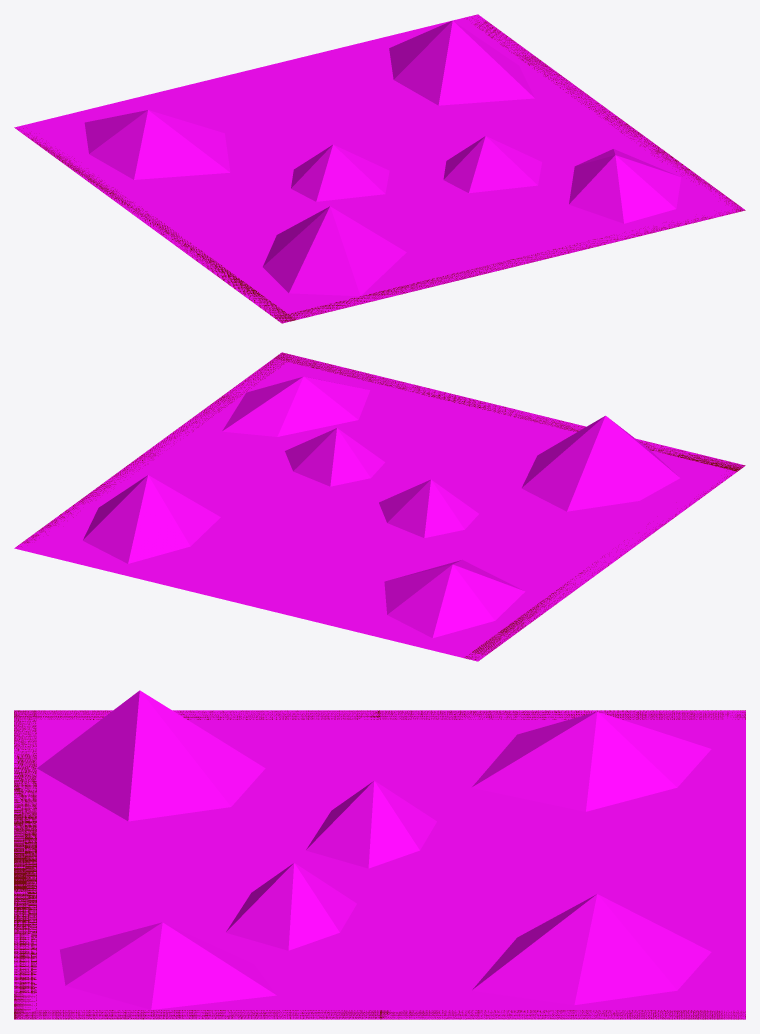
The model's file is cave grilltrap.obj.
3 views of the same model, one above another, from view 1: azimuth 30°, elevation 25°; view 2: azimuth 150°, elevation 25°; view 3: azimuth 270°, elevation 25° (orthographic). The views are drawn at different scales.
Visible parts, largest first — view 1: cave grilltrap_back; view 2: cave grilltrap_back; view 3: cave grilltrap_back.
Boxes of the visible parts, x1,y1,x2,y2 form: cave grilltrap_back: (14,14,745,323); cave grilltrap_back: (14,352,745,661); cave grilltrap_back: (14,690,745,1019).
Bounding box in the file's own units: 2.56 × 0.32 × 2.56.
